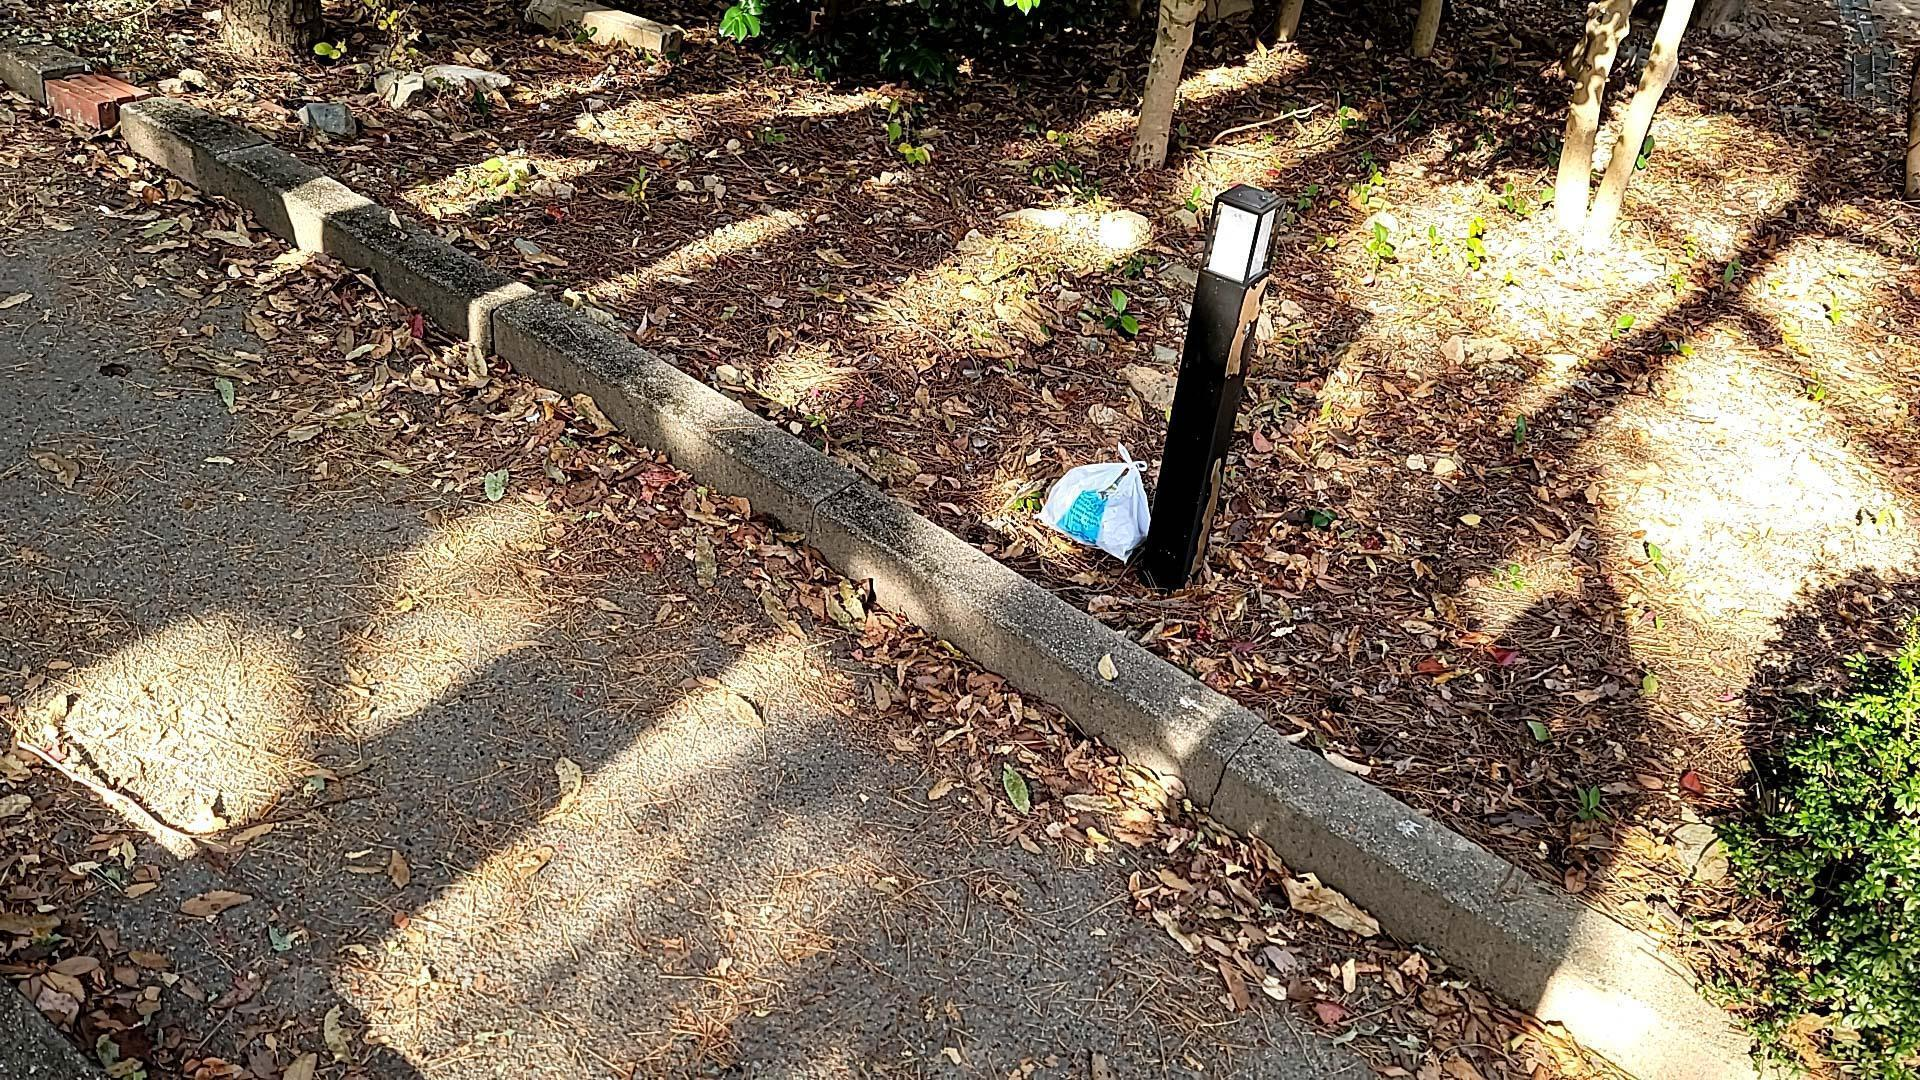white_bag: (1033, 440, 1158, 567)
